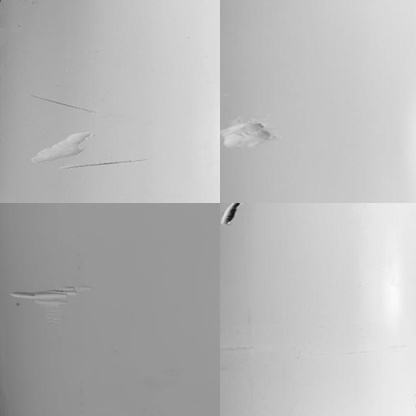kongdong: (220, 201, 249, 225)
sunshang: (13, 282, 95, 324), (218, 117, 282, 154), (28, 130, 93, 162), (28, 88, 99, 114), (60, 157, 150, 174)
